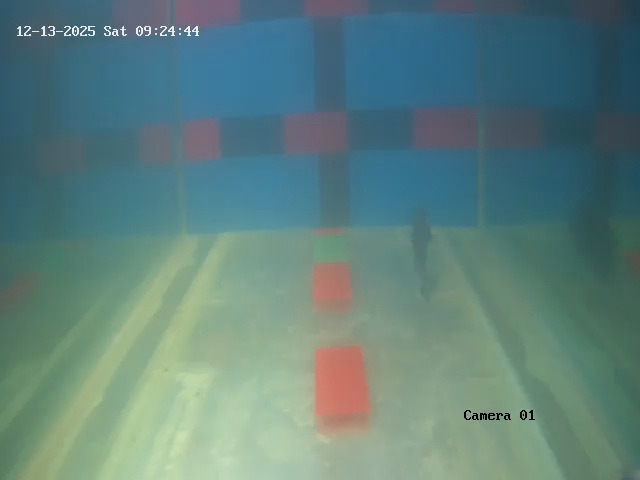fish: (392, 203, 467, 289)
